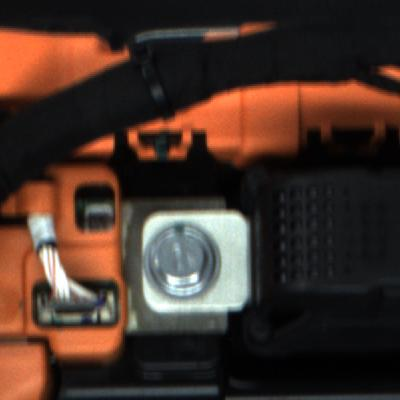nut_b: (136, 219, 228, 300)
